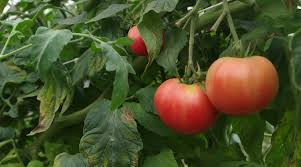stems: (226, 12, 246, 59), (181, 65, 192, 85)
tomato: (205, 55, 280, 114), (153, 77, 220, 136), (127, 24, 165, 55)
